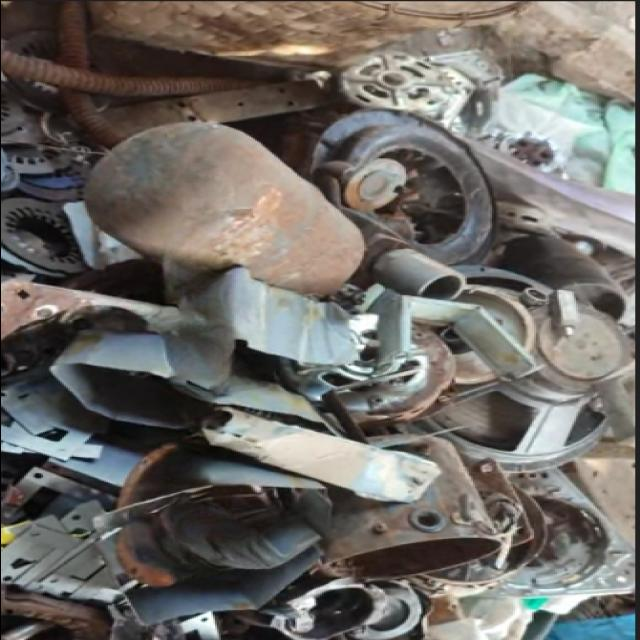shock absorber: (2, 50, 274, 96)
